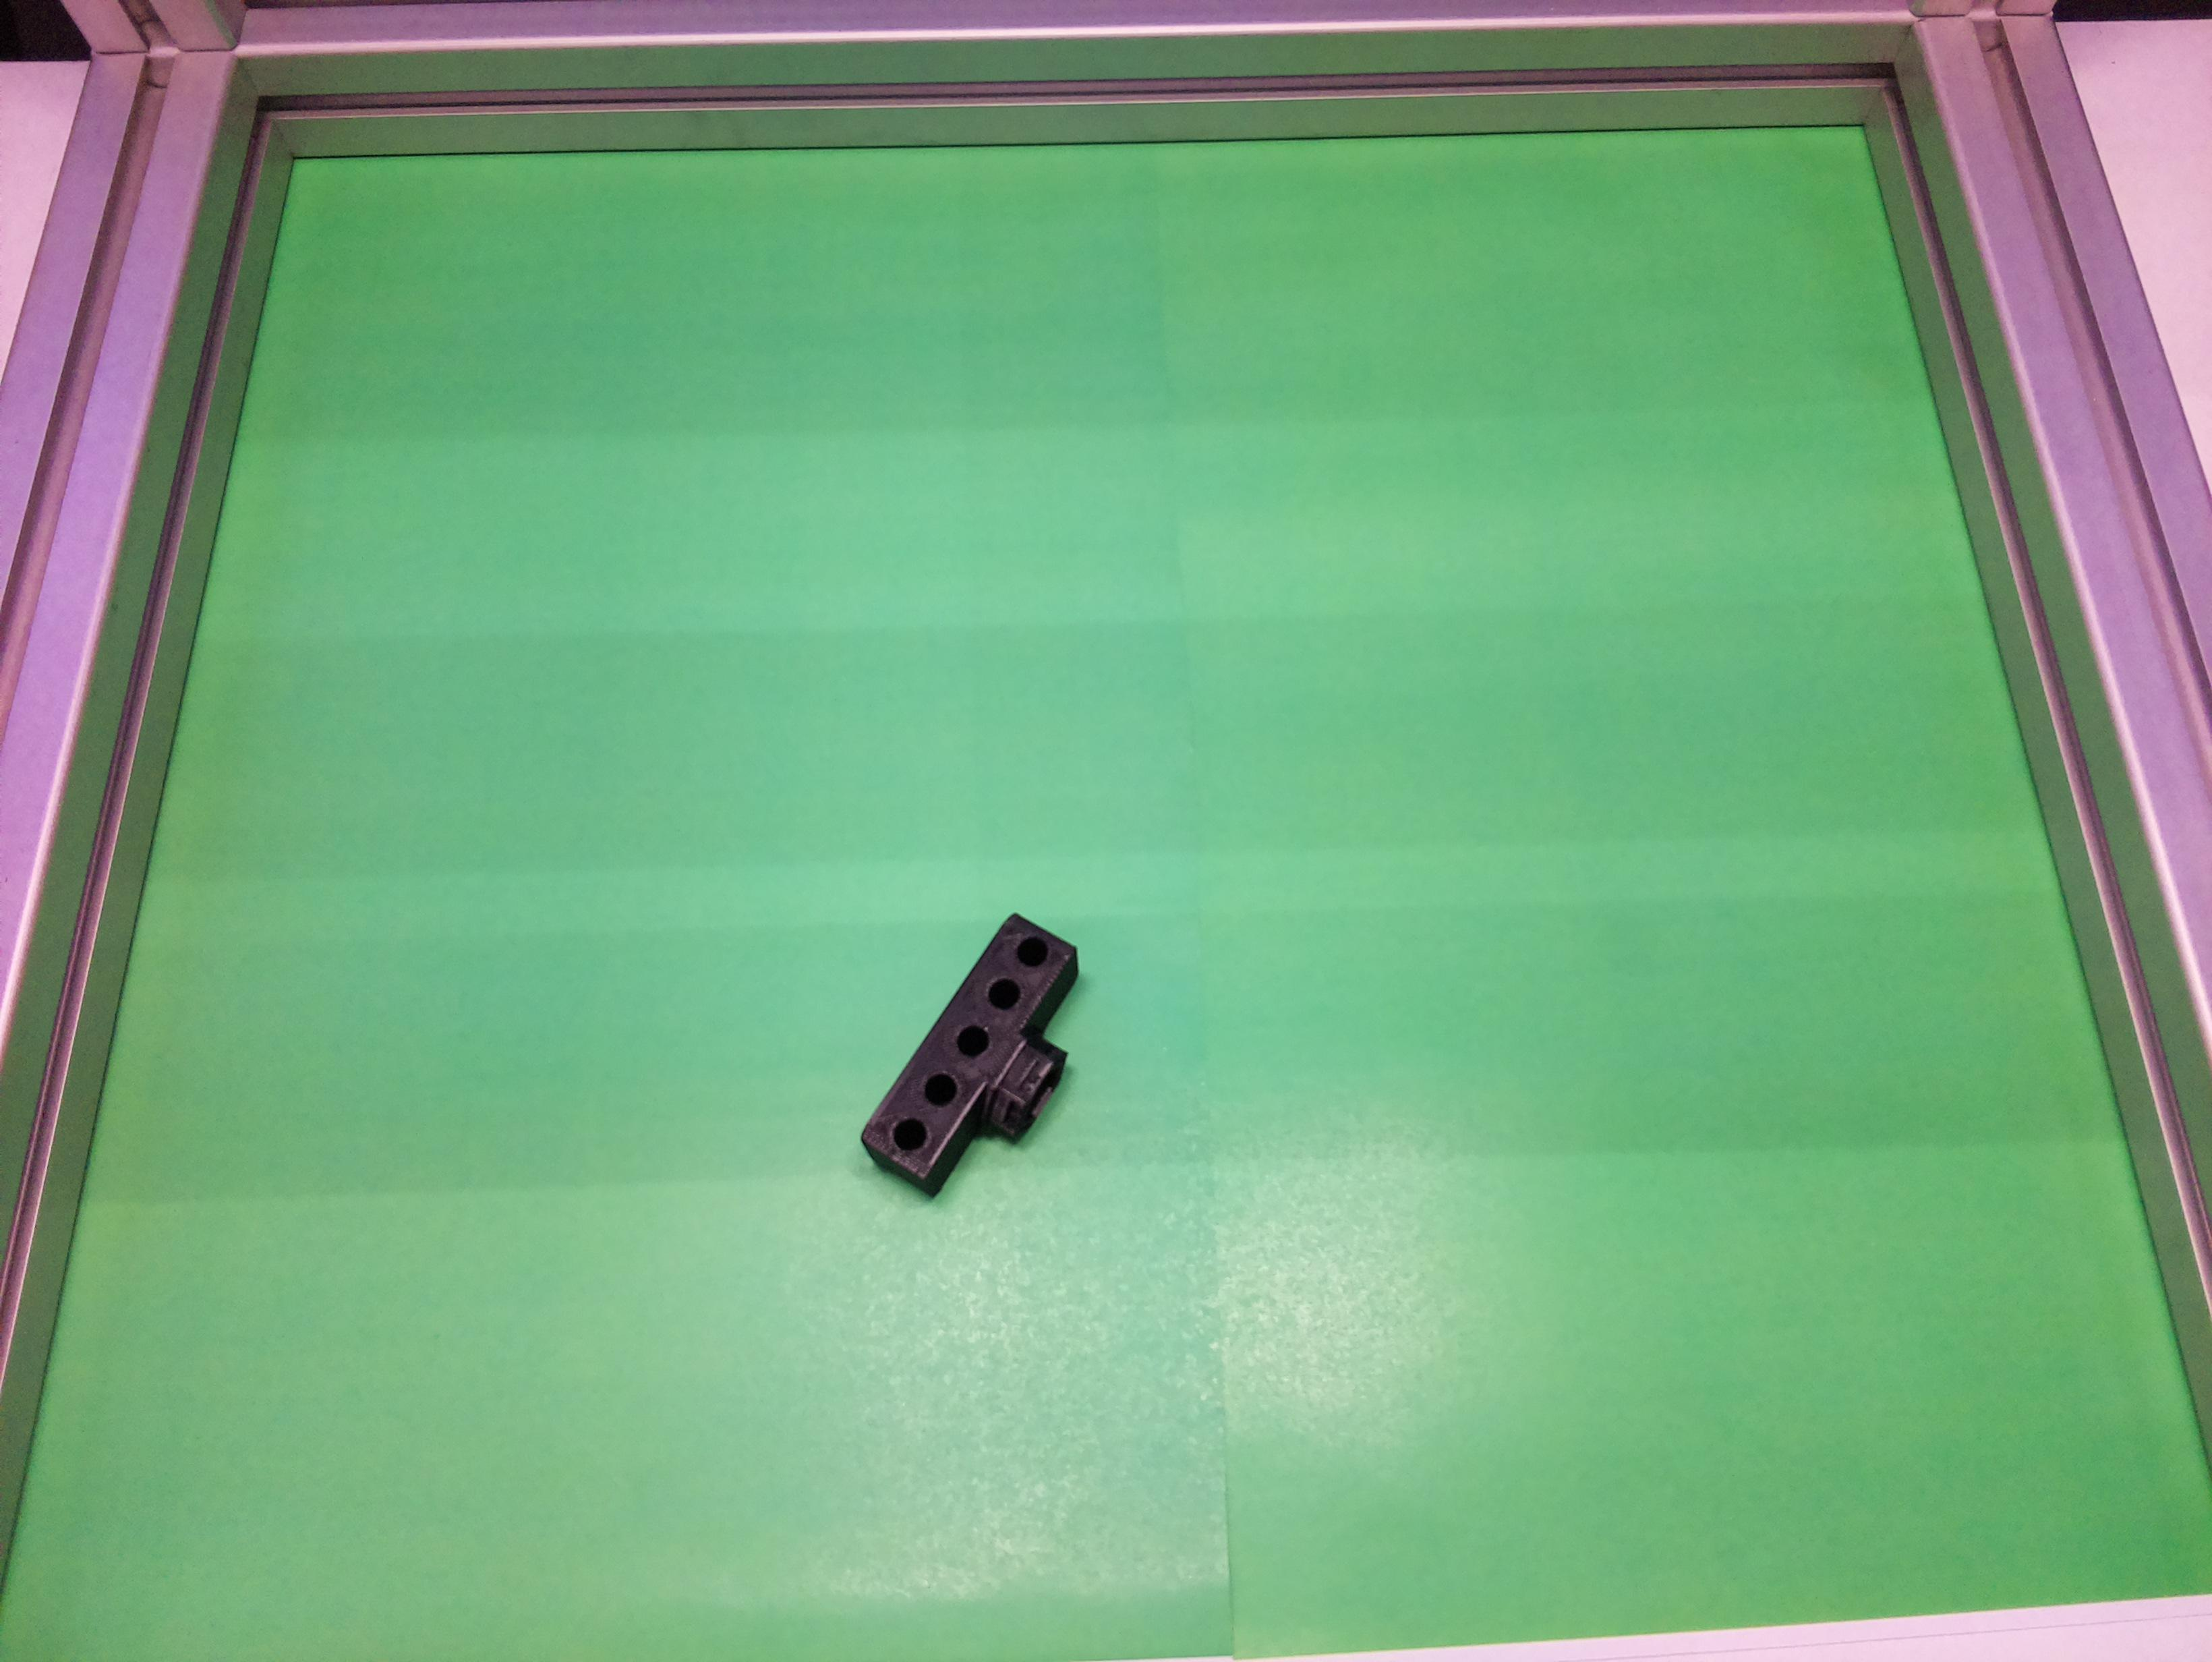bit_holder: (852, 906, 1126, 1224)
